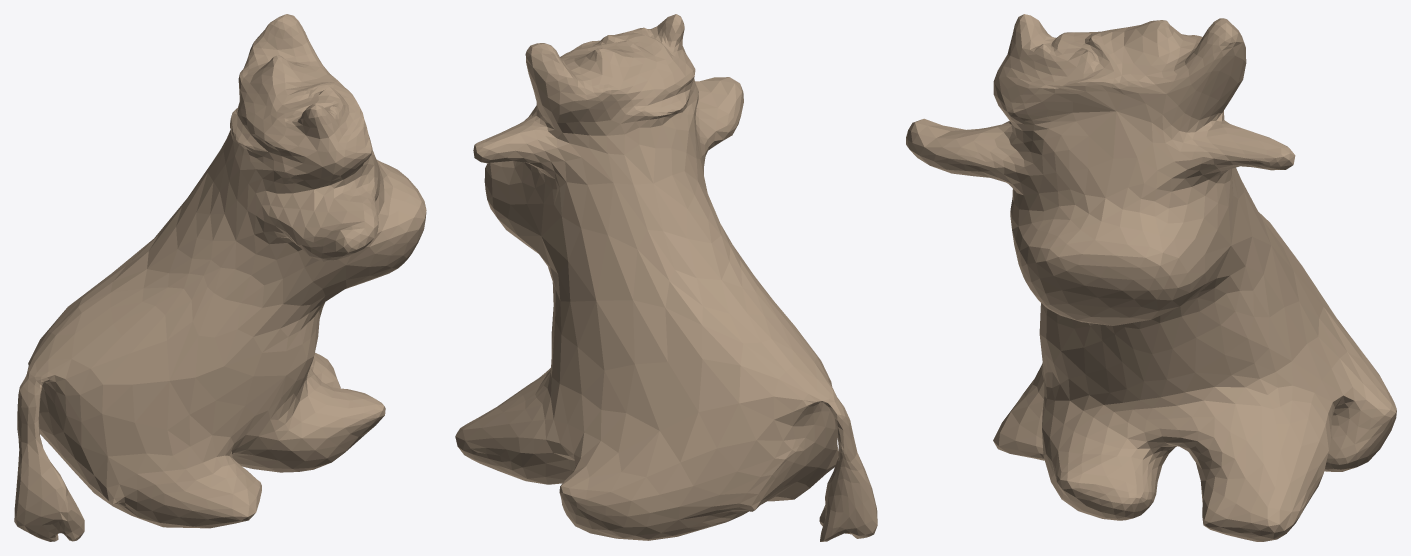
Rendered from cow.dae.
3 views of the same model, side by side, from view 1: azimuth 30°, elevation 25°; view 2: azimuth 150°, elevation 25°; view 3: azimuth 270°, elevation 25° (orthographic). The views are drawn at different scales.
Parts seen in each view (by area): view 1: Mesh1_ORITGT01_Model; view 2: Mesh1_ORITGT01_Model; view 3: Mesh1_ORITGT01_Model.
Part boxes in pixels (left/top/right/bottom): Mesh1_ORITGT01_Model: left=14, top=14, right=426, bottom=541; Mesh1_ORITGT01_Model: left=455, top=14, right=877, bottom=541; Mesh1_ORITGT01_Model: left=906, top=14, right=1396, bottom=541.
Bounding box in the file's own units: 0.2275 × 0.2055 × 0.2503.
